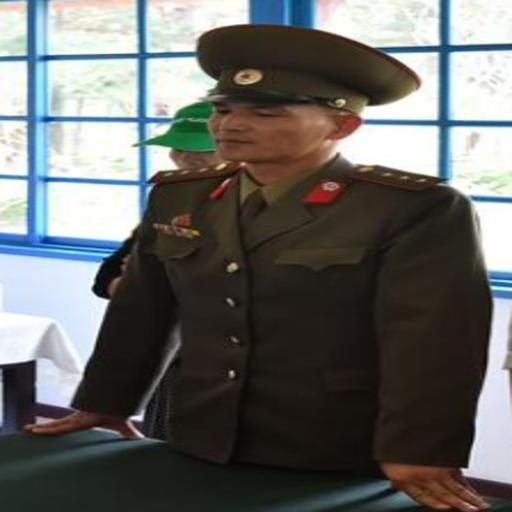north army: (111, 29, 491, 512)
